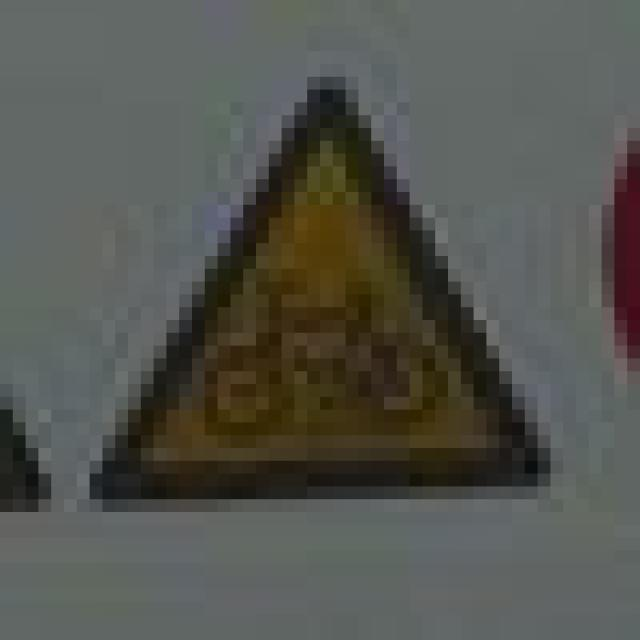cycle_crossing: (76, 64, 538, 486)
